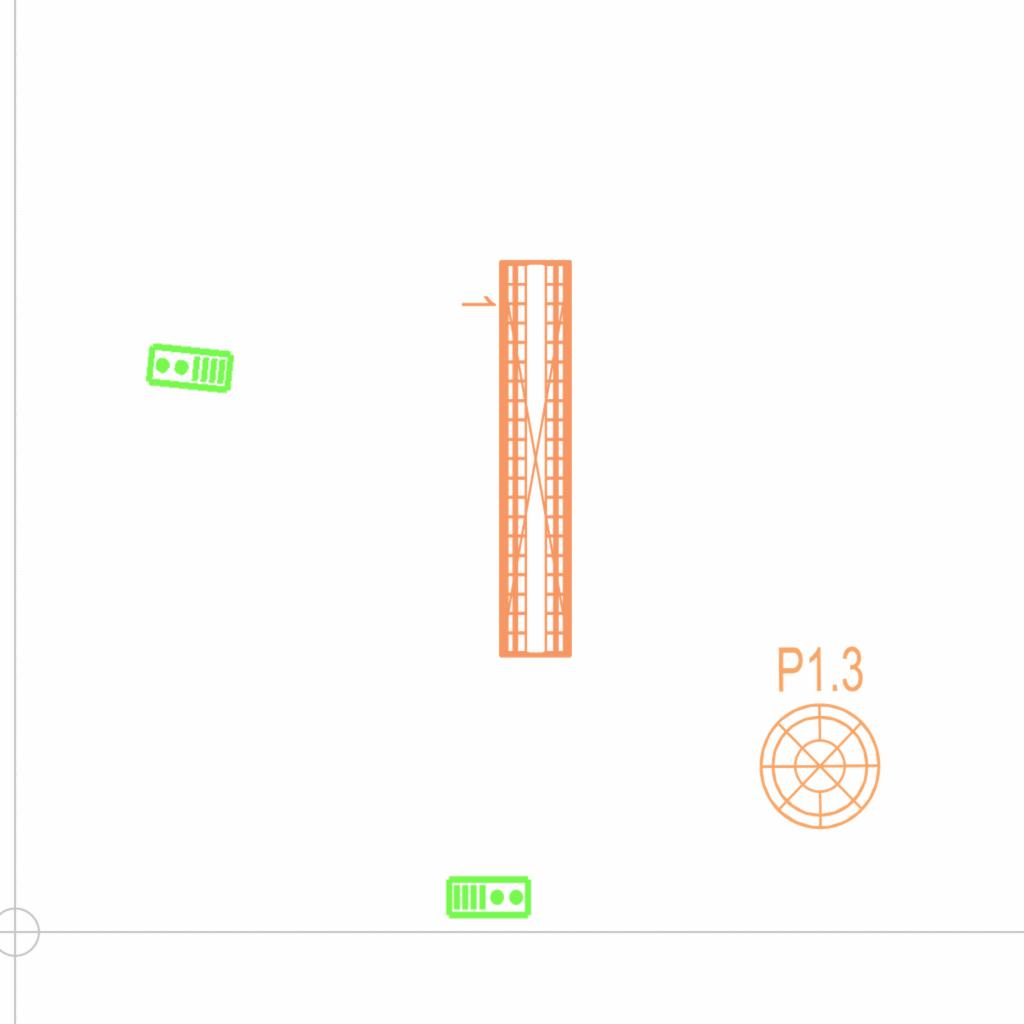Aufbaurundleuchte_LED_Treppenhaus: (756, 628, 895, 833)
Buero_Pendelleuchten_LED: (452, 253, 582, 666)
Gegensprechanlage_mit_Video: (143, 341, 236, 397), (445, 873, 533, 920)
